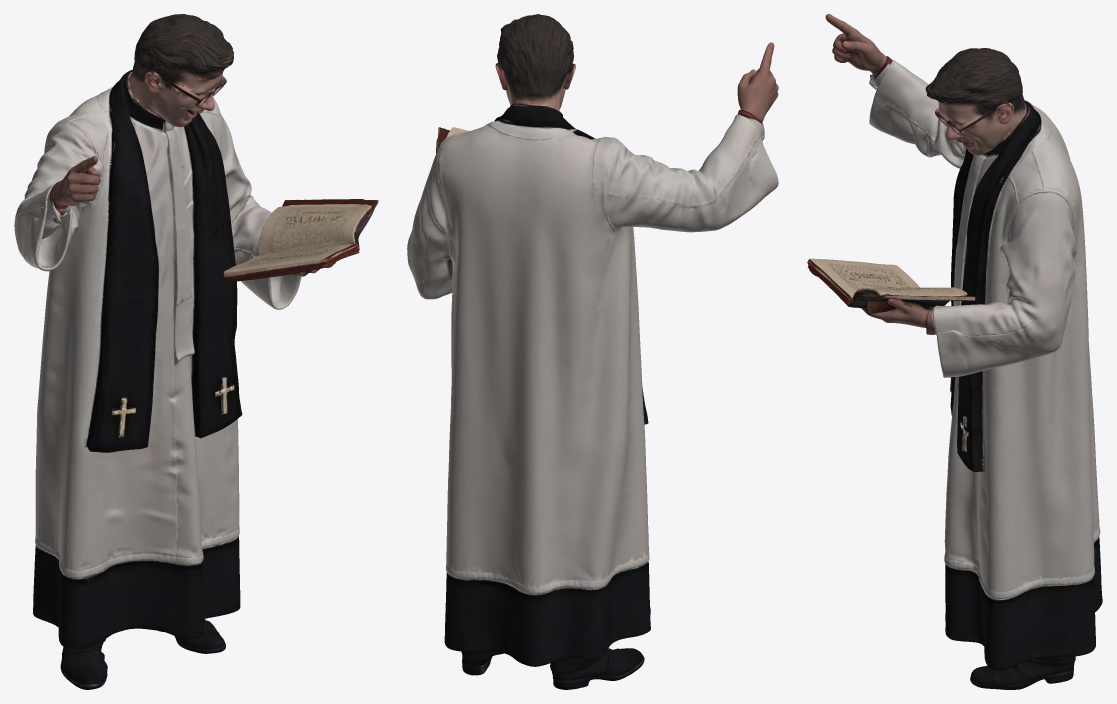
File: cura2.glb
The picture shows the model from 3 angles, left to right: view 1: azimuth 30°, elevation 25°; view 2: azimuth 150°, elevation 25°; view 3: azimuth 270°, elevation 25°; orthographic projection. The views are drawn at different scales.
Visible parts, largest first — view 1: tripo_node_395cba15-78bd-4097-8146-12e6a974fd90; view 2: tripo_node_395cba15-78bd-4097-8146-12e6a974fd90; view 3: tripo_node_395cba15-78bd-4097-8146-12e6a974fd90.
Part boxes in pixels (left/top/right/bottom): tripo_node_395cba15-78bd-4097-8146-12e6a974fd90: left=14, top=14, right=378, bottom=689; tripo_node_395cba15-78bd-4097-8146-12e6a974fd90: left=407, top=14, right=778, bottom=689; tripo_node_395cba15-78bd-4097-8146-12e6a974fd90: left=807, top=14, right=1102, bottom=689.
Bounding box in the file's own units: 0.5506 × 0.9791 × 0.4242.
1 material, 1 textured.
